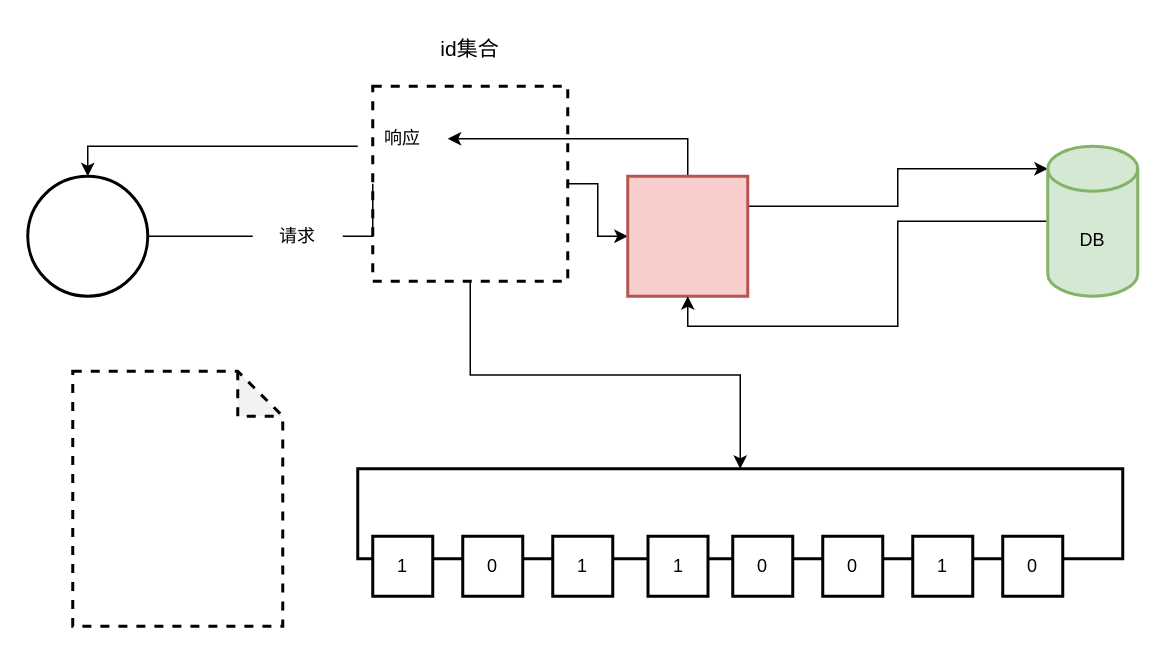
Some shapes in this 1164 by 653 pixel diagram are drawn without their labels. The centre of each missing label's shape, as x and y in pixels:
"Redis" belongs at point 687,235.
"y用户" belongs at point 87,235.
"布隆过滤器-----hash算法" belongs at point 740,513.
"计算id在数据库中存在不存在，通过hash算法计算不同标记来表名 这个id是否存在，来做出不同战略，大大减小存储id的大集合" belongs at point 177,498.
